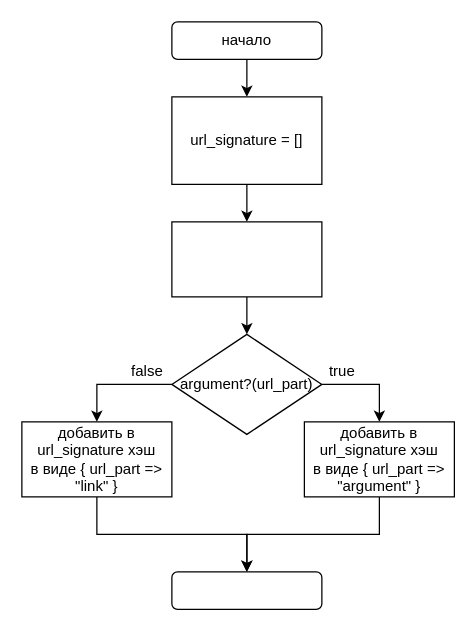
This 476x631 diagram has some shape labels left out. The centre of each missing label's shape, as x and y in pixels:
"url_signature" goes at pixel 246 590.
"Разделить каждую часть url по '/'" goes at pixel 246 259.
